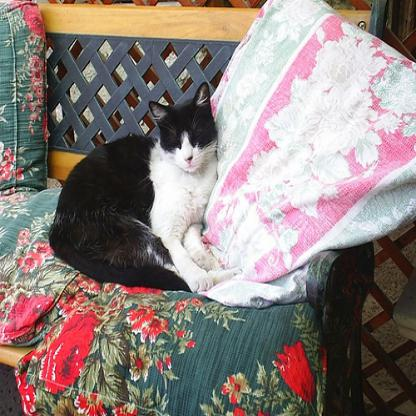cat: (47, 80, 222, 300)
